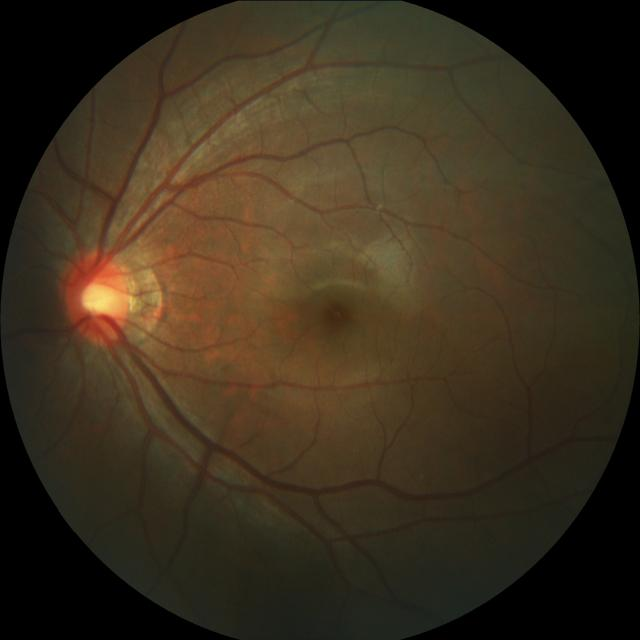OC: (80, 275, 122, 318)
OD: (64, 252, 133, 343)
